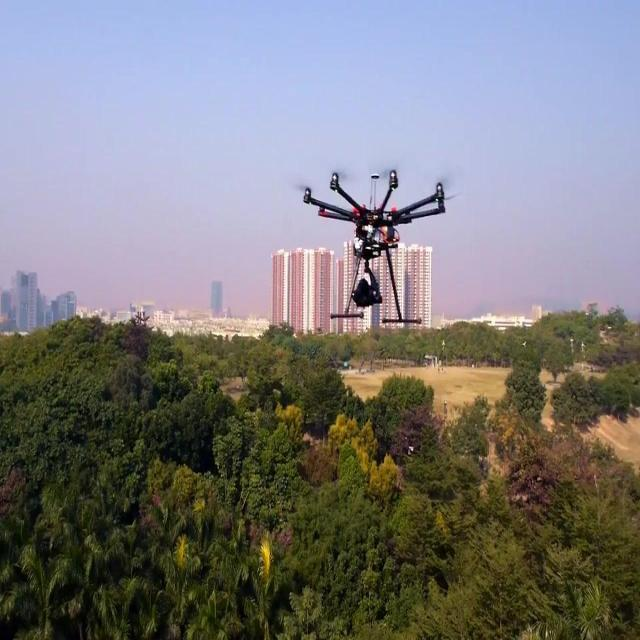drone: (301, 164, 447, 327)
